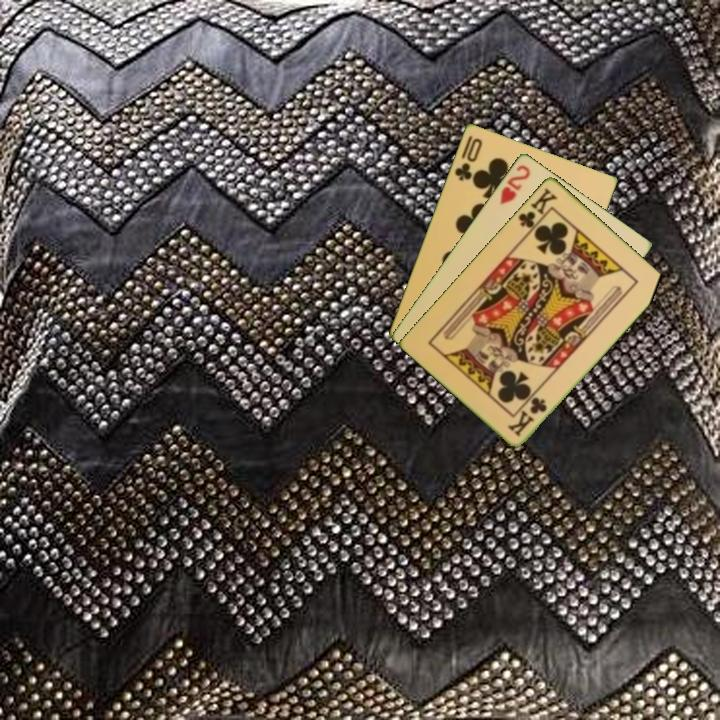10c: (451, 134, 485, 184)
2h: (496, 161, 533, 207)
Kc: (514, 184, 561, 236), (504, 393, 550, 439)
